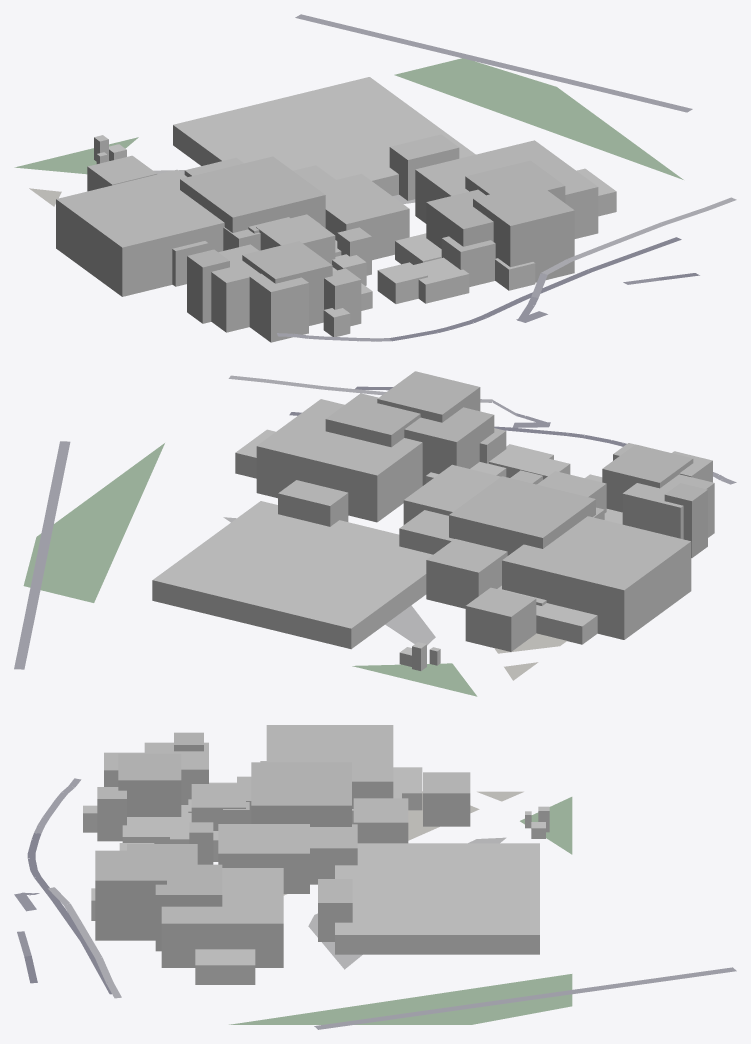
The model's file is 115_87_mid.glb.
3 views of the same model, one above another, from view 1: azimuth 30°, elevation 25°; view 2: azimuth 150°, elevation 25°; view 3: azimuth 270°, elevation 25° (orthographic). The views are drawn at different scales.
Bounding box in the file's own units: 598 × 61.61 × 655.
